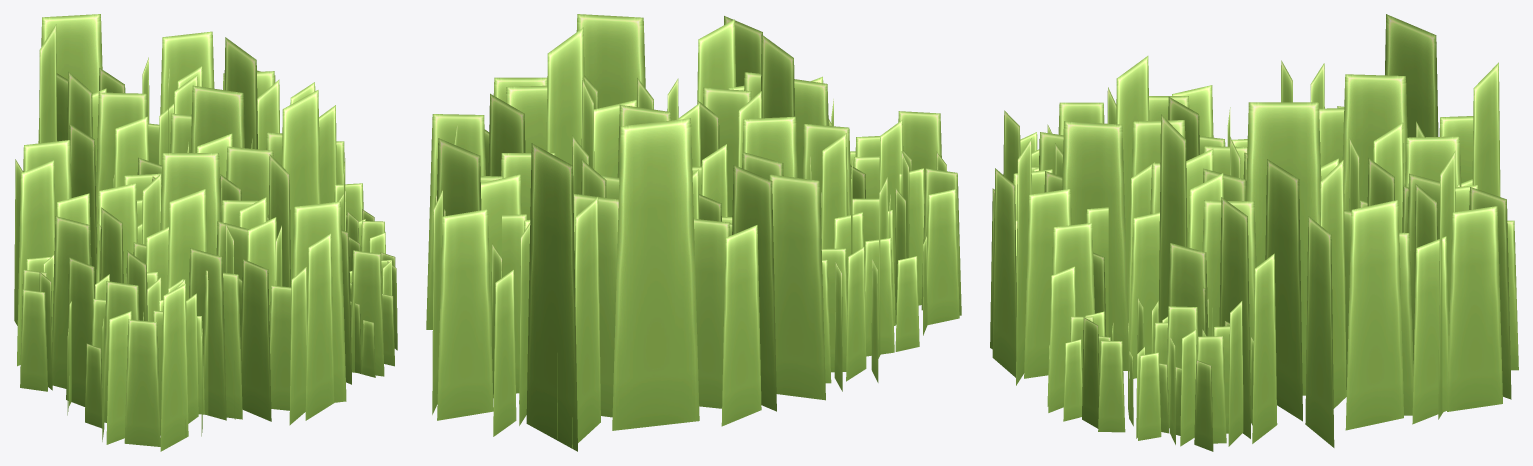
Rendered from SM_Grass_01_D.glb.
3 renders of one model, left to right at view 1: azimuth 30°, elevation 25°; view 2: azimuth 150°, elevation 25°; view 3: azimuth 270°, elevation 25°, orthographic. The views are drawn at different scales.
Parts seen in each view (by area): view 1: SM_Grass_01_D; view 2: SM_Grass_01_D; view 3: SM_Grass_01_D.
Boxes of the visible parts, x1=… form: SM_Grass_01_D: x1=14, y1=14, x2=397, y2=451; SM_Grass_01_D: x1=426, y1=14, x2=961, y2=451; SM_Grass_01_D: x1=990, y1=14, x2=1518, y2=451.
Size of the model in its own units: 0.5999 by 0.4259 by 0.6876.
1 material, 1 textured.
